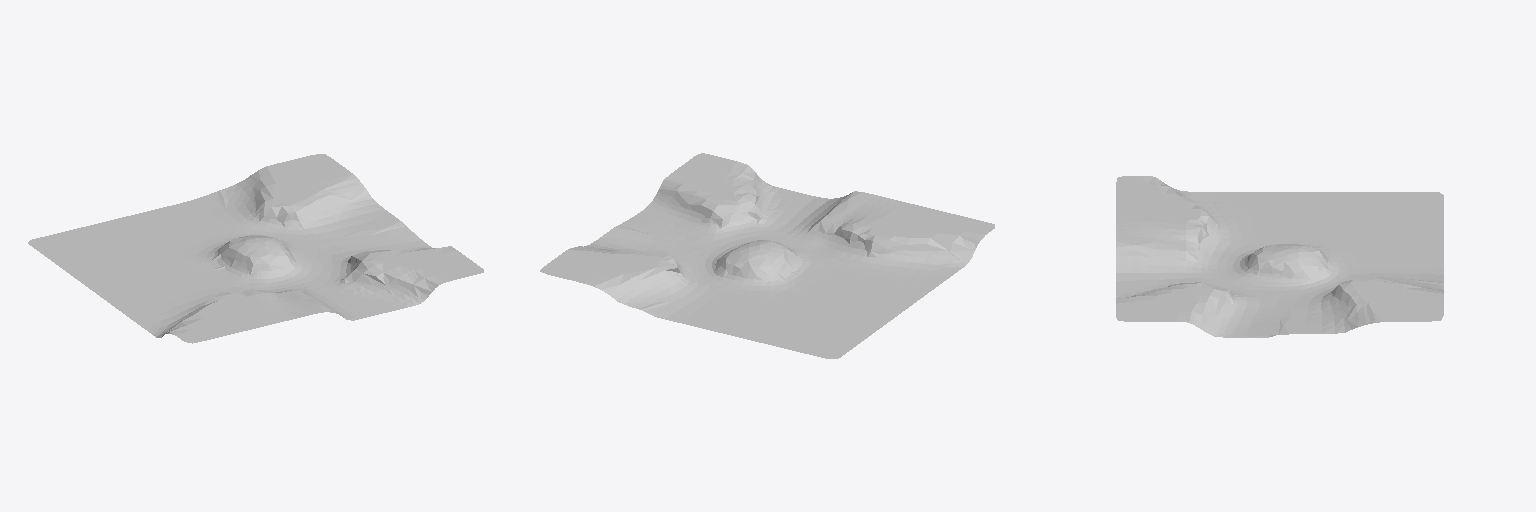
Rendered from simpleTerrain.obj.
The picture shows the model from 3 angles: view 1: azimuth 30°, elevation 25°; view 2: azimuth 150°, elevation 25°; view 3: azimuth 270°, elevation 25°; orthographic projection.
Parts seen in each view (by area): view 1: pPlane1, pPlane1_Original; view 2: pPlane1, pPlane1_Original; view 3: pPlane1_Original, pPlane1.
Part boxes in pixels (left/top/right/bottom): pPlane1: left=35, top=156, right=480, bottom=336; pPlane1_Original: left=28, top=154, right=483, bottom=343; pPlane1: left=545, top=155, right=984, bottom=357; pPlane1_Original: left=540, top=153, right=994, bottom=358; pPlane1_Original: left=1116, top=176, right=1443, bottom=337; pPlane1: left=1116, top=181, right=1443, bottom=337.
Size of the model in its own units: 19.67 by 1.11 by 18.64.